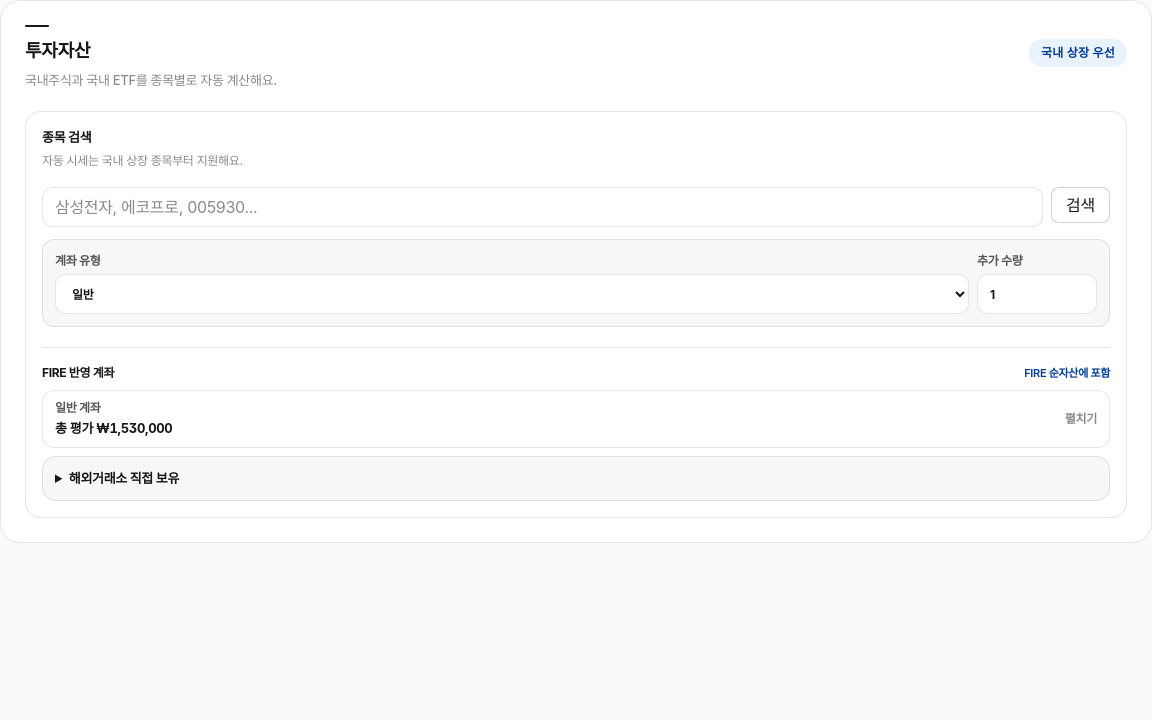
Scenario: InvestmentAssetPanel › shows domestic search and de-emphasizes direct US-listed manual calculation
The image size is (1152, 720).
Expected: the heading "투자자산" is shown, [25,40,90,62]
Expected: the text "종목 검색" is shown, [42,128,91,144]
Click the button "일반 계좌 총 평가 ₩1,530,000 펼치기" at [78, 408], box [42,390,1110,448]
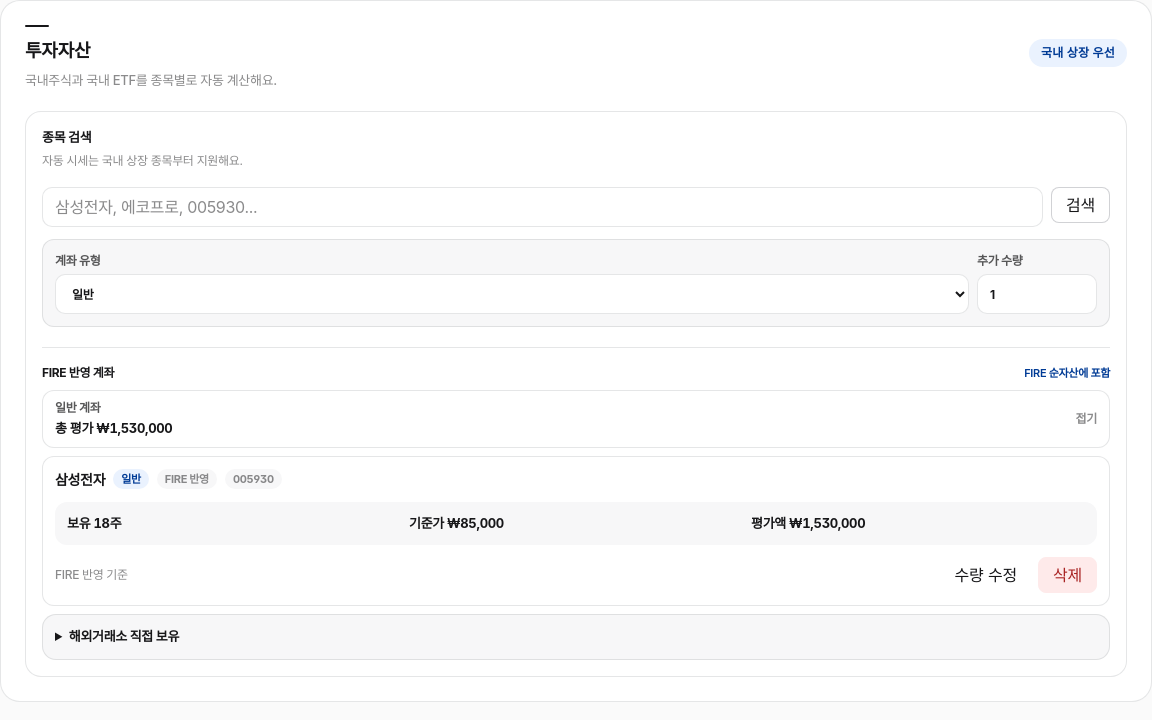
Now the button "수량 수정" is shown, box [940,557,1032,593]
Now the button "삭제" is shown, box [1038,557,1097,593]
